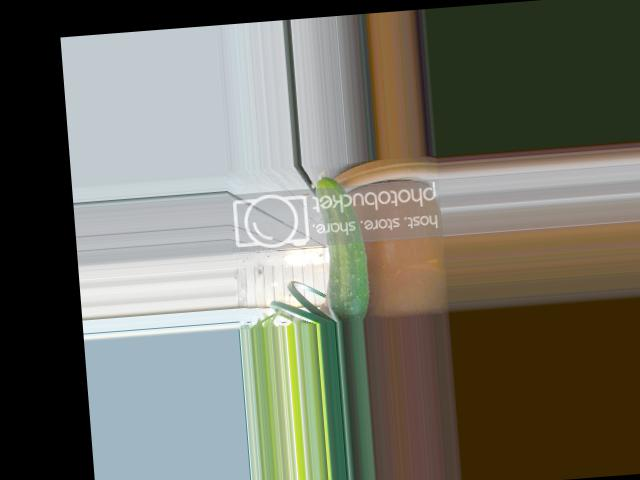cucumber: (313, 167, 371, 321)
